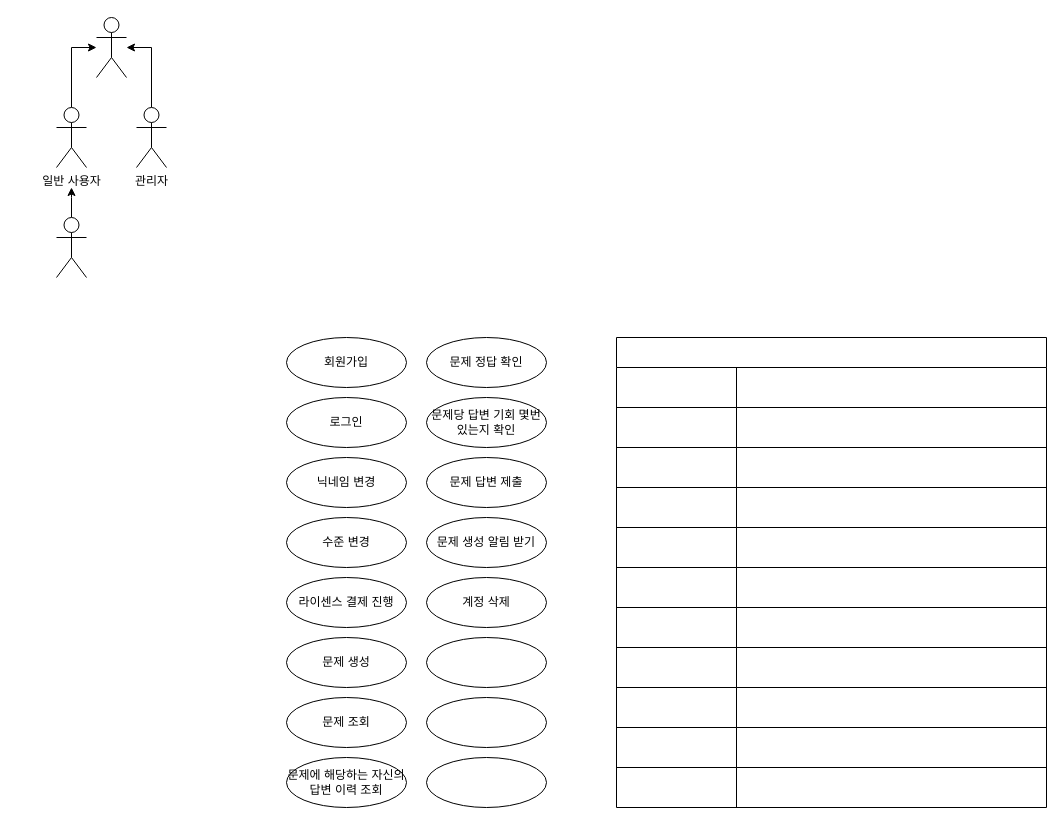
Some shapes in this 1064 by 825 pixel diagram are drawn without their labels. Here are the shapes that lost their labels. From the top down, the box of each, then its label:
(96, 16, 126, 78): 사용자
(56, 216, 86, 278): 문제 제공 가능 사용자
(616, 336, 1046, 808): Table
